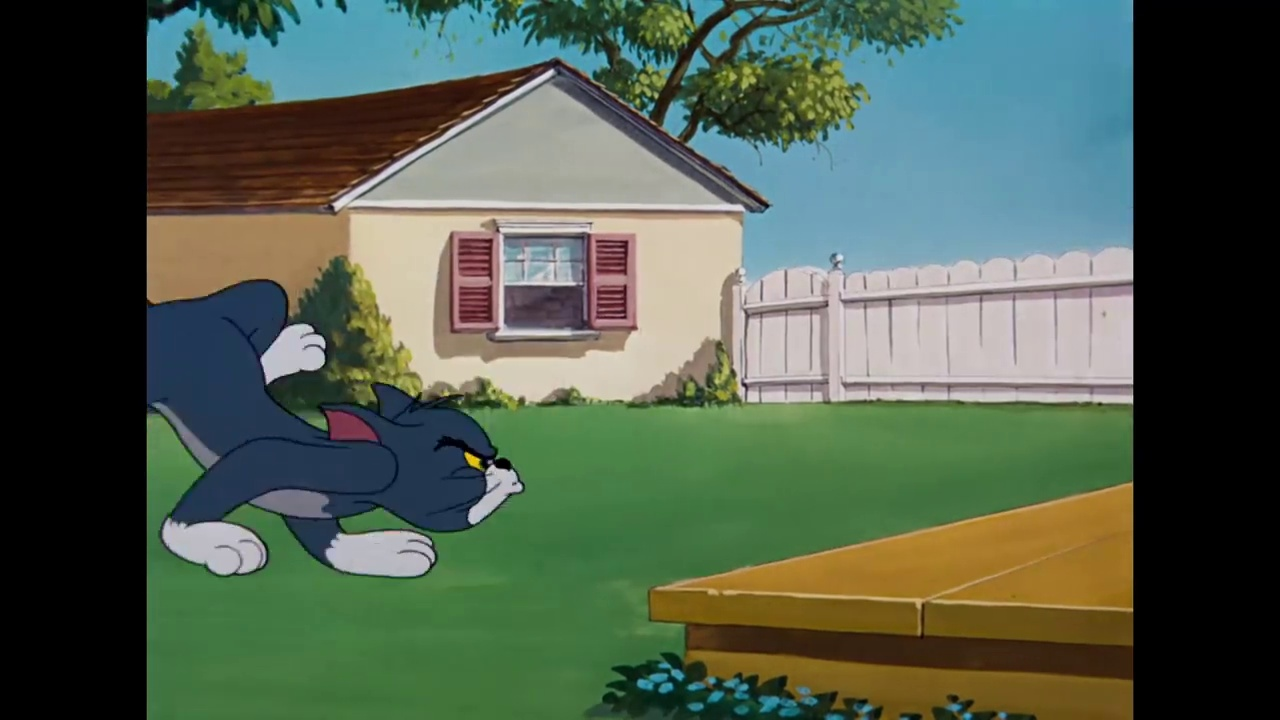tom: (316, 380, 526, 535)
